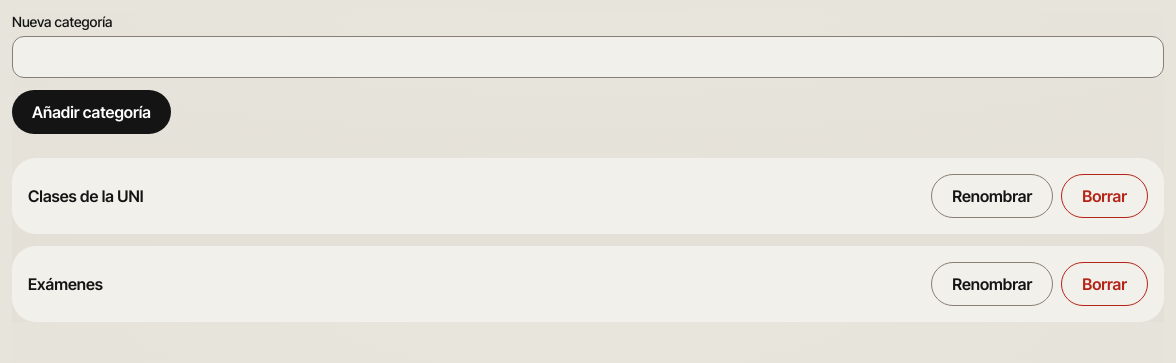
Test: CategoryManager (RF-9..RF-14) › shows a duplicate-name error next to the field (RF-10)
The image size is (1176, 363).
Type "exámenes" into the field labelled "Nueva categoría" at (588, 57), box [12,36,1164,78]
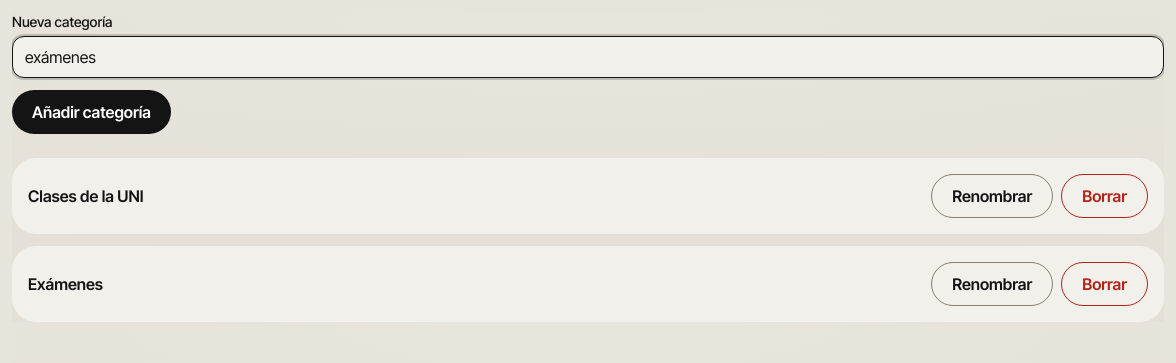
Click the button "Añadir categoría" at (91, 112), box [12,90,171,134]
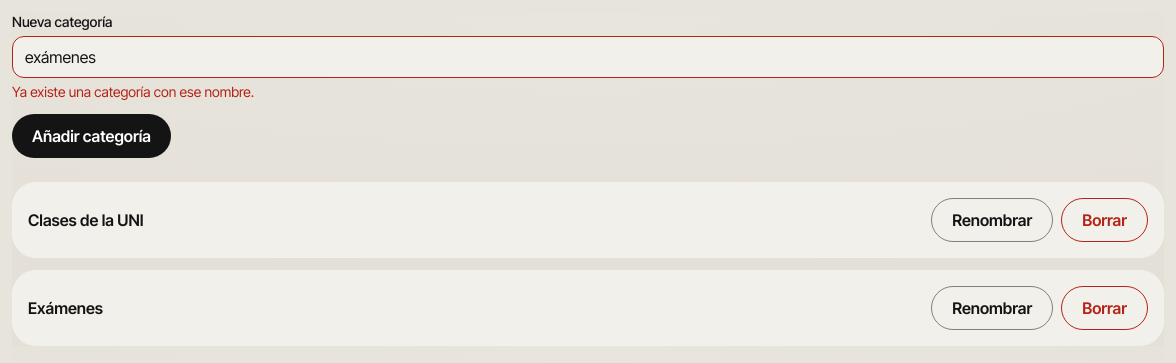
Result: the text "Ya existe una categoría con ese nombre." is shown at [12,83,254,100]
